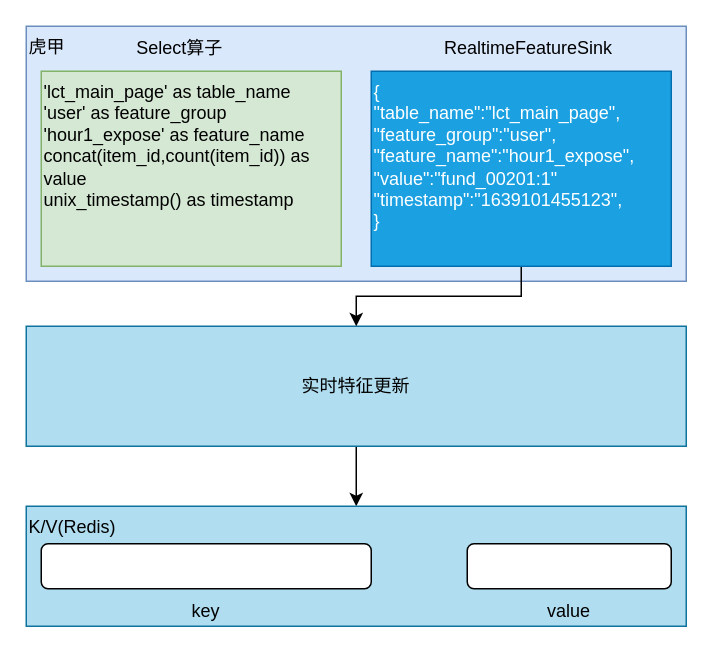
The diagram is 713 pixels wide and 660 high, and some of its shapes have lost their labels. The box of each missing label's shape, as (x1, y1, x2, y2) in pixels:
fund_00201:1: (466, 542, 671, 589)
{owner}:hashFunc(table::featureName): (40, 542, 371, 589)
